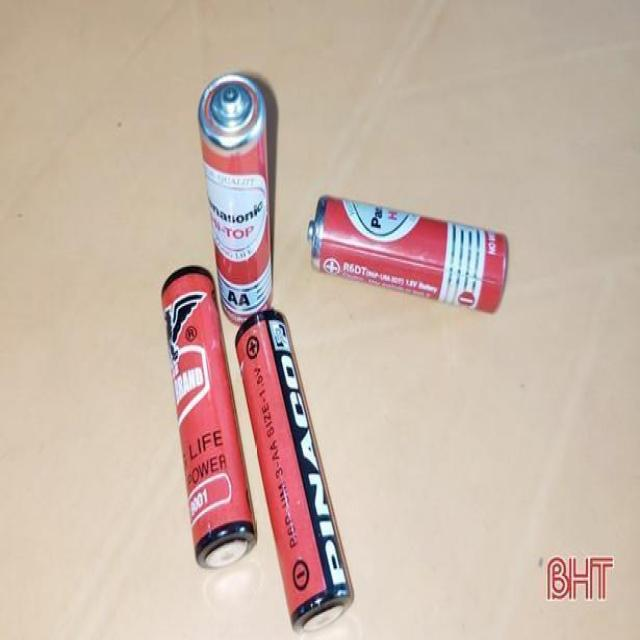AA: (232, 305, 359, 636), (159, 261, 261, 575), (305, 190, 511, 317), (195, 68, 277, 328)
